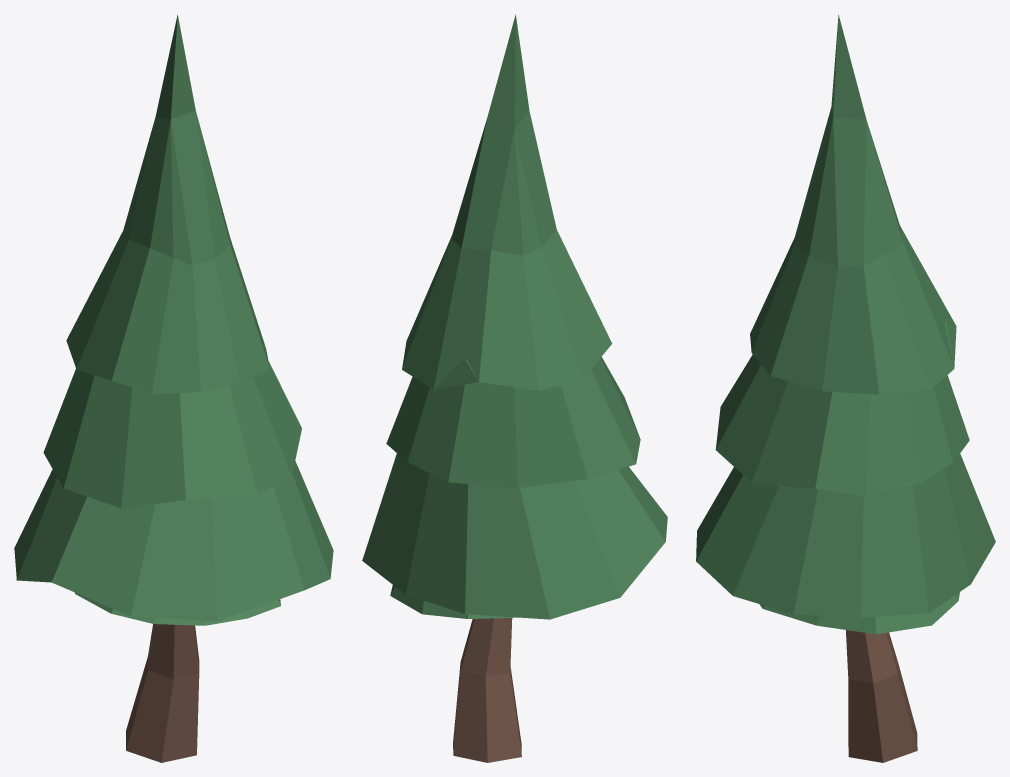
Rendered from msh_TreePine02.fbx.
The picture shows the model from 3 angles, left to right: view 1: azimuth 30°, elevation 25°; view 2: azimuth 150°, elevation 25°; view 3: azimuth 270°, elevation 25°; orthographic projection. The views are drawn at different scales.
Visible parts, largest first — view 1: Cube.049, Cube.047, Cube.048, Cylinder.002, Cube.050; view 2: Cube.049, Cube.047, Cube.048, Cylinder.002, Cube.050; view 3: Cube.049, Cube.047, Cube.048, Cylinder.002, Cube.050.
Boxes of the visible parts, bbox=[...] form: Cube.049: bbox=[66, 15, 269, 394]; Cube.047: bbox=[14, 461, 333, 621]; Cube.048: bbox=[43, 361, 301, 508]; Cylinder.002: bbox=[126, 624, 199, 762]; Cube.050: bbox=[75, 592, 280, 625]; Cube.049: bbox=[402, 14, 612, 390]; Cube.047: bbox=[362, 453, 667, 619]; Cube.048: bbox=[386, 357, 640, 487]; Cylinder.002: bbox=[453, 618, 521, 762]; Cube.050: bbox=[390, 585, 516, 618]; Cube.049: bbox=[750, 15, 956, 394]; Cube.047: bbox=[696, 453, 995, 617]; Cube.048: bbox=[715, 354, 969, 496]; Cylinder.002: bbox=[846, 630, 917, 762]; Cube.050: bbox=[759, 592, 959, 634].
Size of the model in its own units: 173 by 450 by 167.
